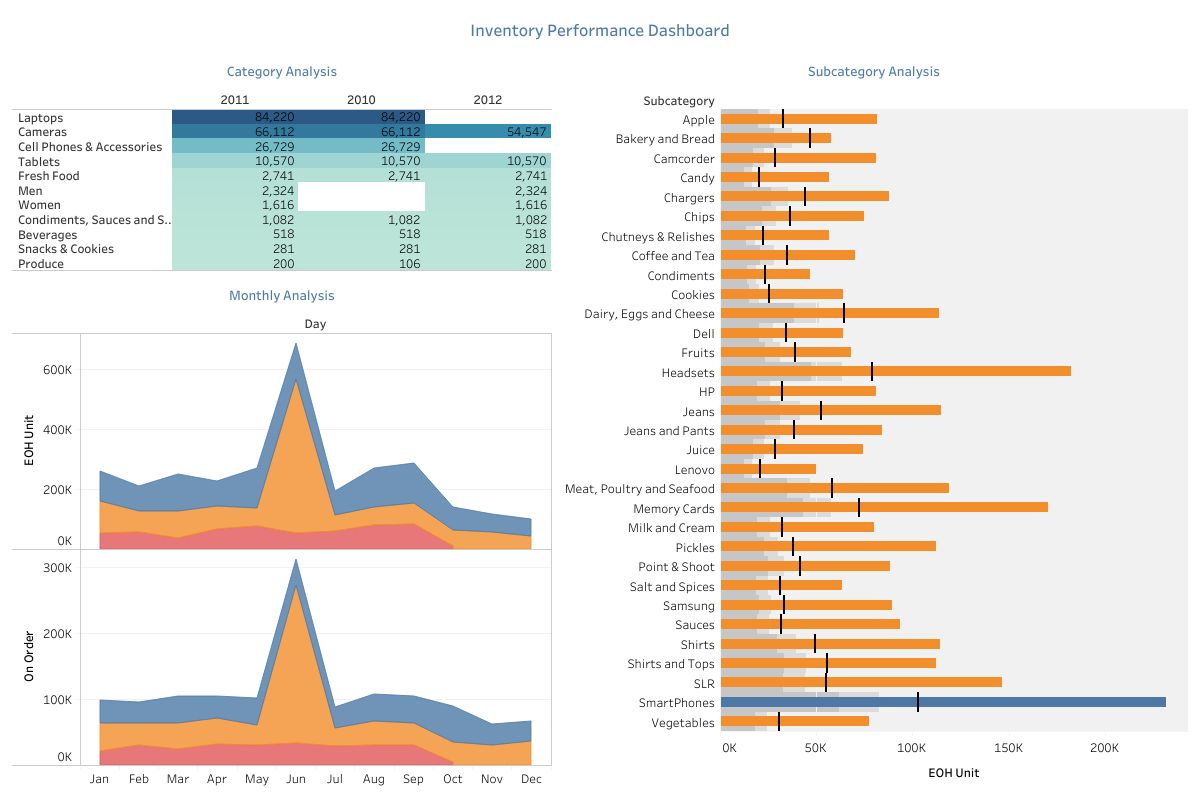

This screenshot's page, from the dashboard's own definition file:
{"tool":"tableau","page":{"name":"Inventory Performance Dashboard","canvas":[1200,800],"ordinal":0},"visuals":[{"type":"title","box":[8,8,1184,43.2]},{"type":"worksheet","title":"Category Analysis","mark":"Square","rows":["CATEGORY_NAME"],"cols":["Day"],"box":[8,51.2,548.5,224]},{"type":"worksheet","title":"Subcategory Analysis","mark":"Automatic","rows":["SUBCATEGORY"],"cols":["EOH_Unit"],"box":[556.5,51.2,635.5,740.8]},{"type":"worksheet","title":"Monthly Analysis","mark":"Area","rows":["EOH_Unit","On_Order"],"cols":["Day"],"box":[8,275.2,548.5,516.8]}]}

Visuals, with their boxes in screenshot pixels (x1, y1, x2, y2), scaled from the page's 1200x800 canvas onto the 1199x799 screenshot:
title: box(8, 8, 1191, 51)
"Category Analysis" worksheet (Square marks): box(8, 51, 556, 275)
"Subcategory Analysis" worksheet: box(556, 51, 1191, 791)
"Monthly Analysis" worksheet (Area marks): box(8, 275, 556, 791)
